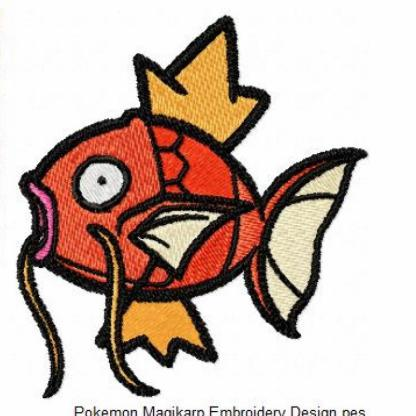Magikarp: (1, 24, 375, 406)
